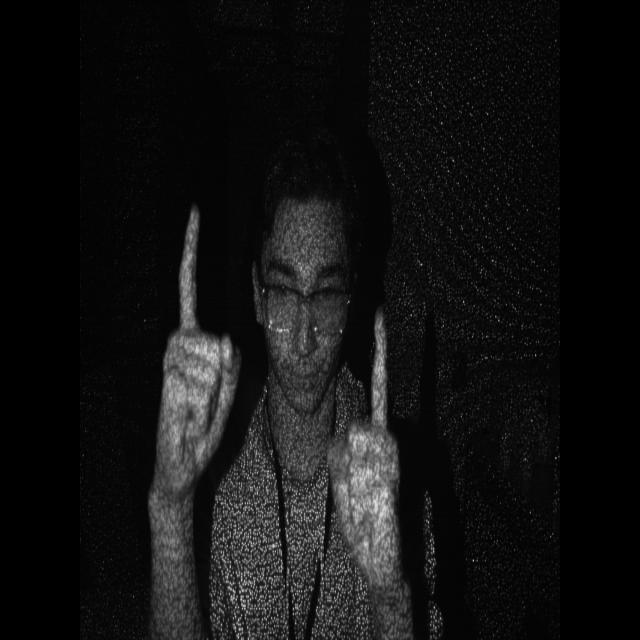STARS: (147, 192, 255, 502), (322, 295, 420, 581)
